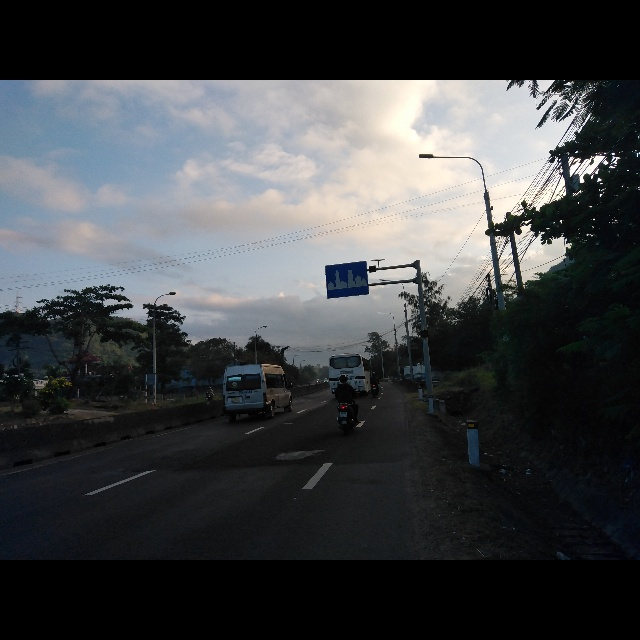Khu đông dân cư: (324, 262, 370, 298)
